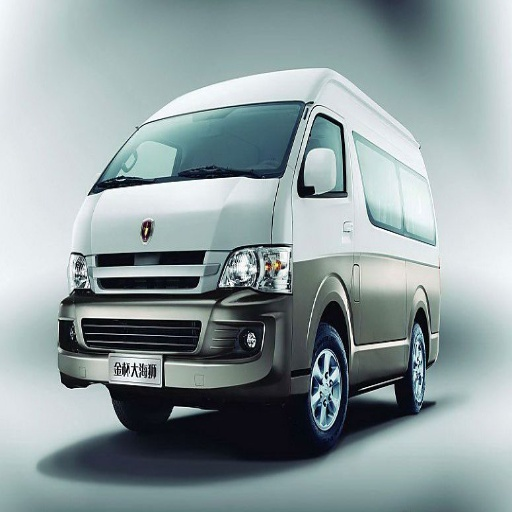front_bumper: (58, 251, 316, 405)
front_glass: (93, 104, 304, 190)
front_left_door: (294, 108, 354, 247)
trunk: (338, 256, 439, 322)
